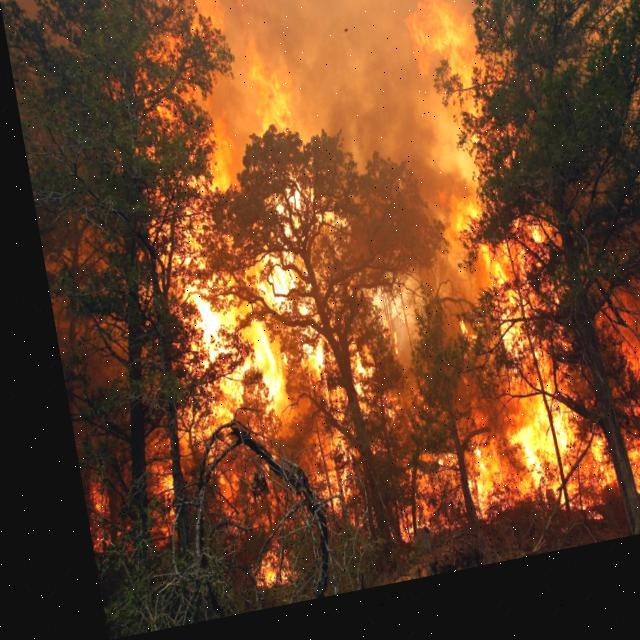Fire: (13, 0, 639, 605)
